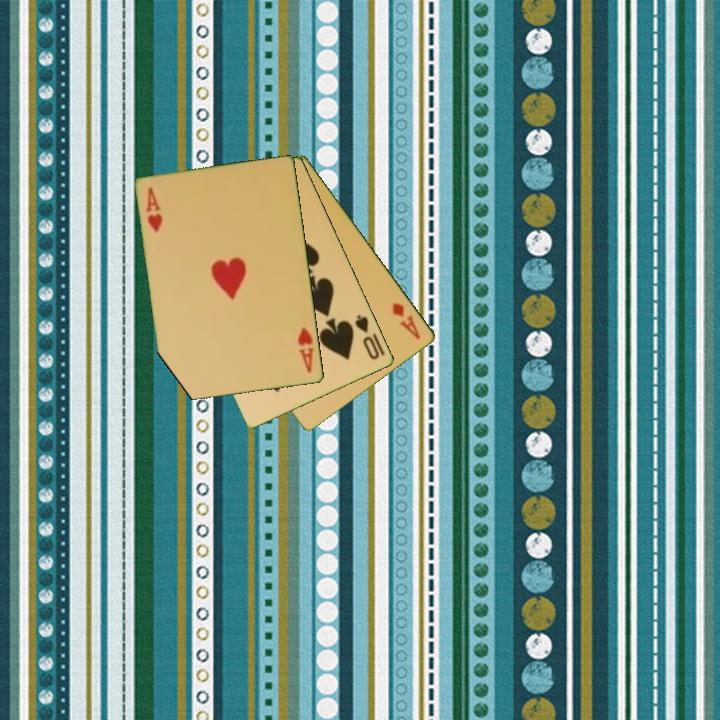10s: (352, 311, 383, 363)
Ad: (389, 299, 424, 342)
Ah: (142, 184, 166, 235), (294, 324, 317, 376)
